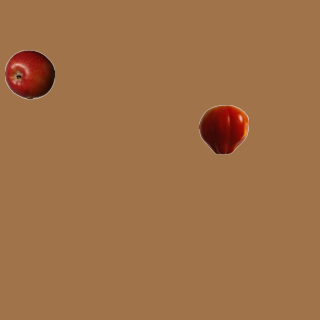Apple Braeburn: (4, 49, 54, 99)
Tomato 1: (198, 104, 248, 154)
